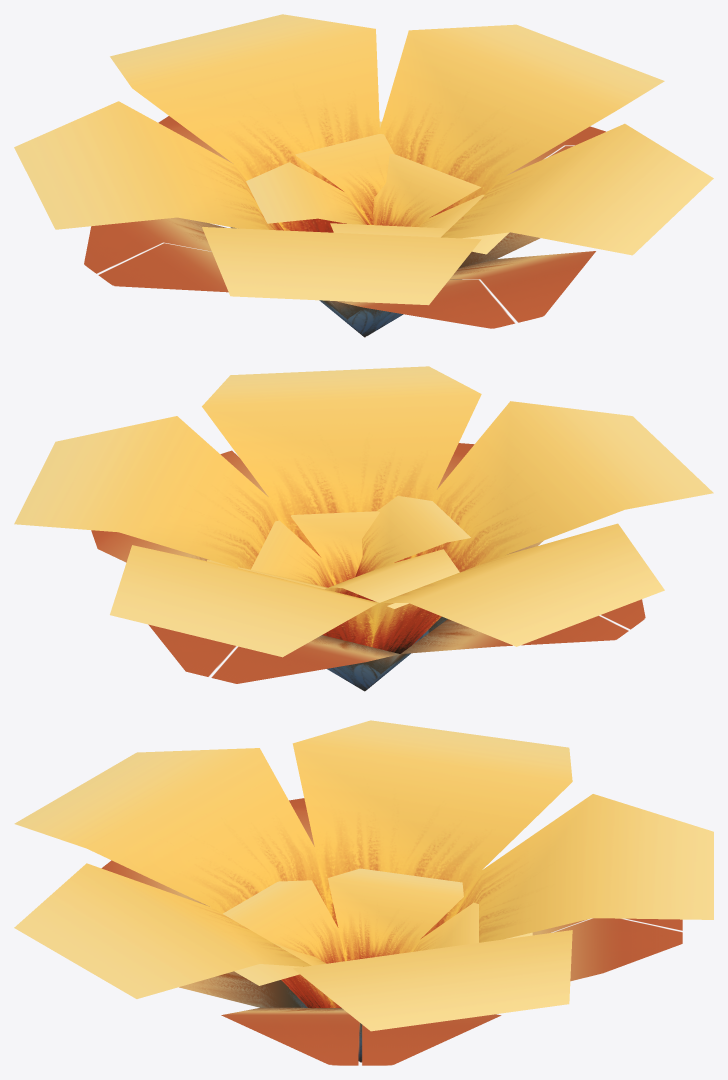
File: stylized_flowers_stage4.glb
The picture shows the model from 3 angles, top to bottom: view 1: azimuth 30°, elevation 25°; view 2: azimuth 150°, elevation 25°; view 3: azimuth 270°, elevation 25°; orthographic projection. The views are drawn at different scales.
Visible parts, largest first — view 1: Stage4; view 2: Stage4; view 3: Stage4.
Boxes of the visible parts, x1,y1,x2,y2 form: Stage4: (14,14,713,337); Stage4: (14,366,713,691); Stage4: (14,720,713,1065).
Bounding box in the file's own units: 2.29 × 0.71 × 2.18.
1 material, 1 textured.
